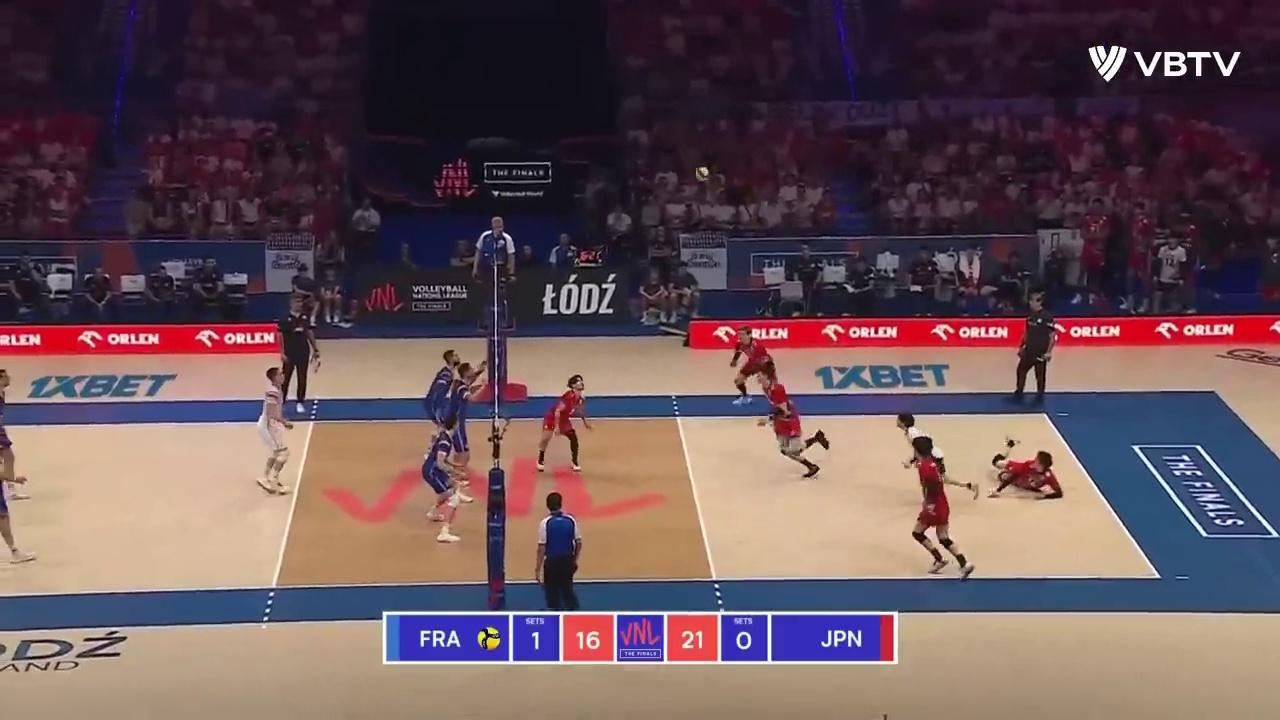ball: (695, 167, 708, 182)
